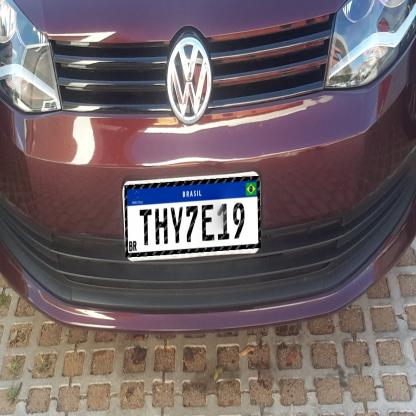PlacaM: (124, 176, 261, 257)
